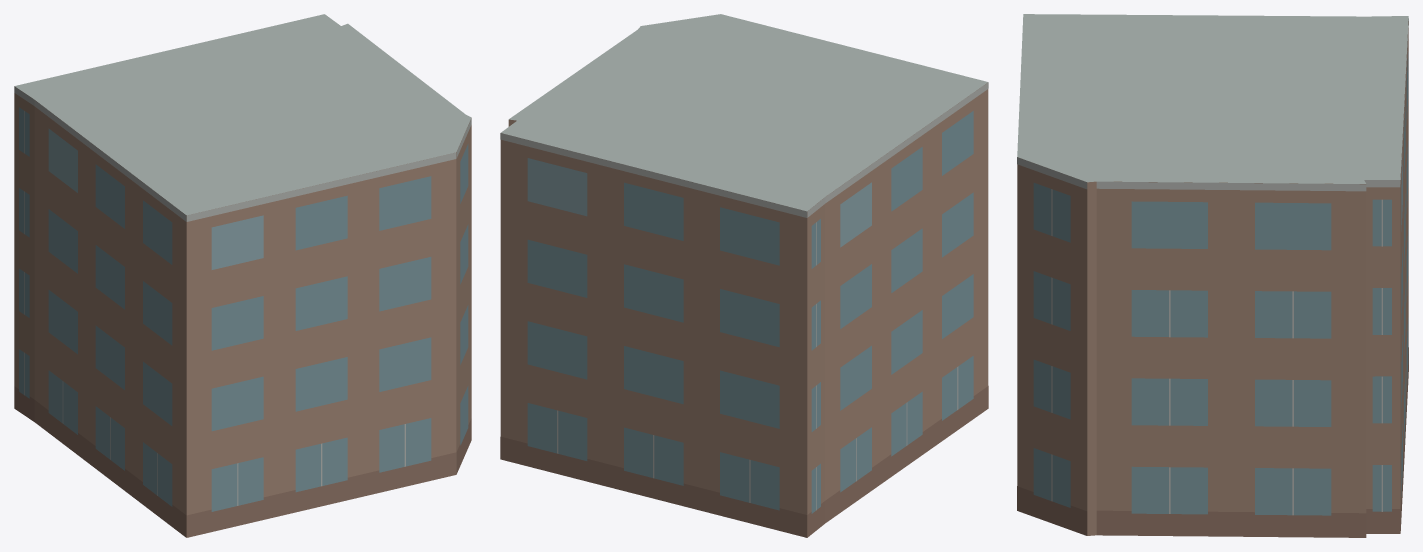
File: survey-upis-32749137.glb
3 views of the same model, side by side, from view 1: azimuth 30°, elevation 25°; view 2: azimuth 150°, elevation 25°; view 3: azimuth 270°, elevation 25° (orthographic). The views are drawn at different scales.
Parts seen in each view (by area): view 1: survey-upis-32749137.tmp; view 2: survey-upis-32749137.tmp; view 3: survey-upis-32749137.tmp.
Boxes of the visible parts, <box> form: survey-upis-32749137.tmp: <box>14,14,471,537</box>; survey-upis-32749137.tmp: <box>500,14,988,537</box>; survey-upis-32749137.tmp: <box>1017,14,1408,537</box>.
Bounding box in the file's own units: 12.28 × 11.9 × 11.95.
